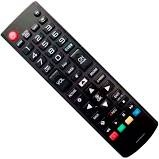remote control: (0, 0, 159, 159)
